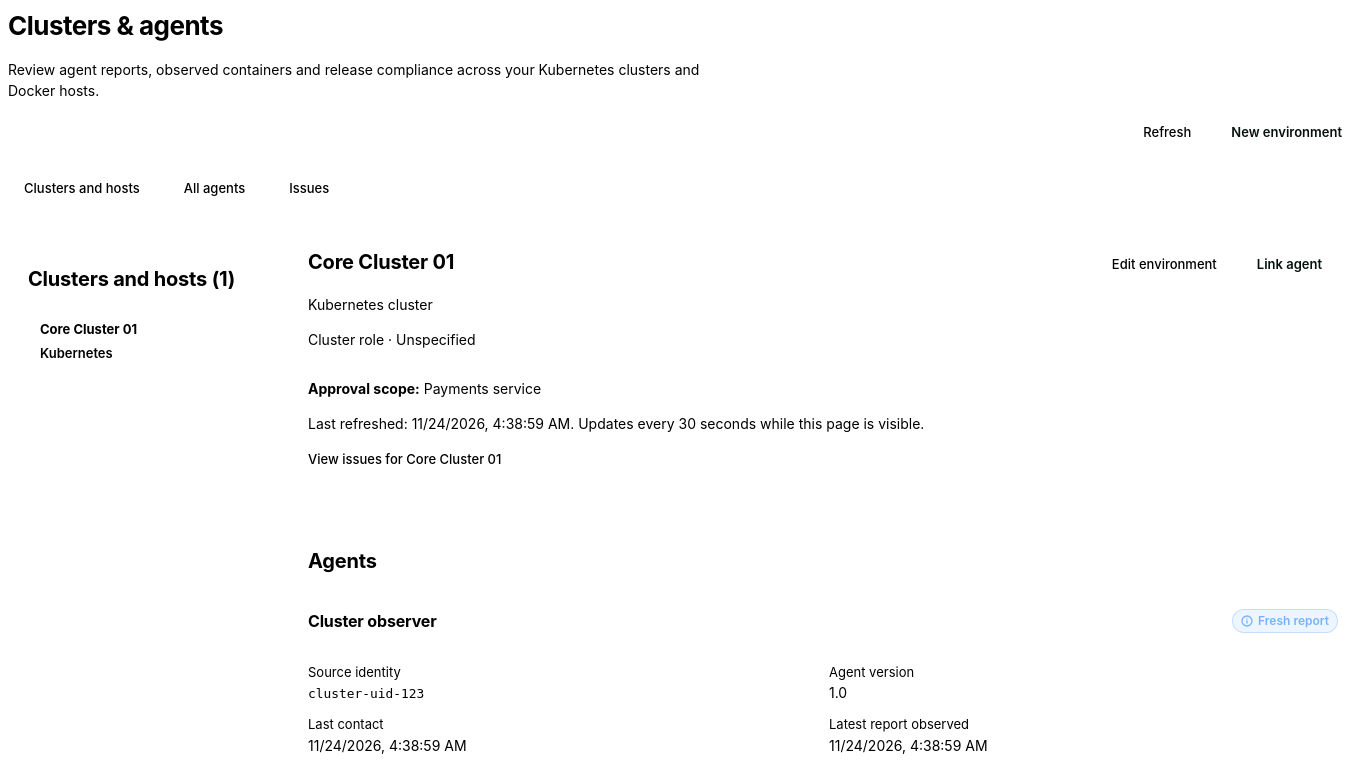
Test: drills from a cluster to its issues and distinguishes expired approvals from missing evidence
The width and height of the screenshot is (1366, 768).
Expected: the button "Link agent" is shown, [1241,247,1338,283]
Click the button "View issues for Core Cluster 01" at (405, 460), box [308,450,501,469]
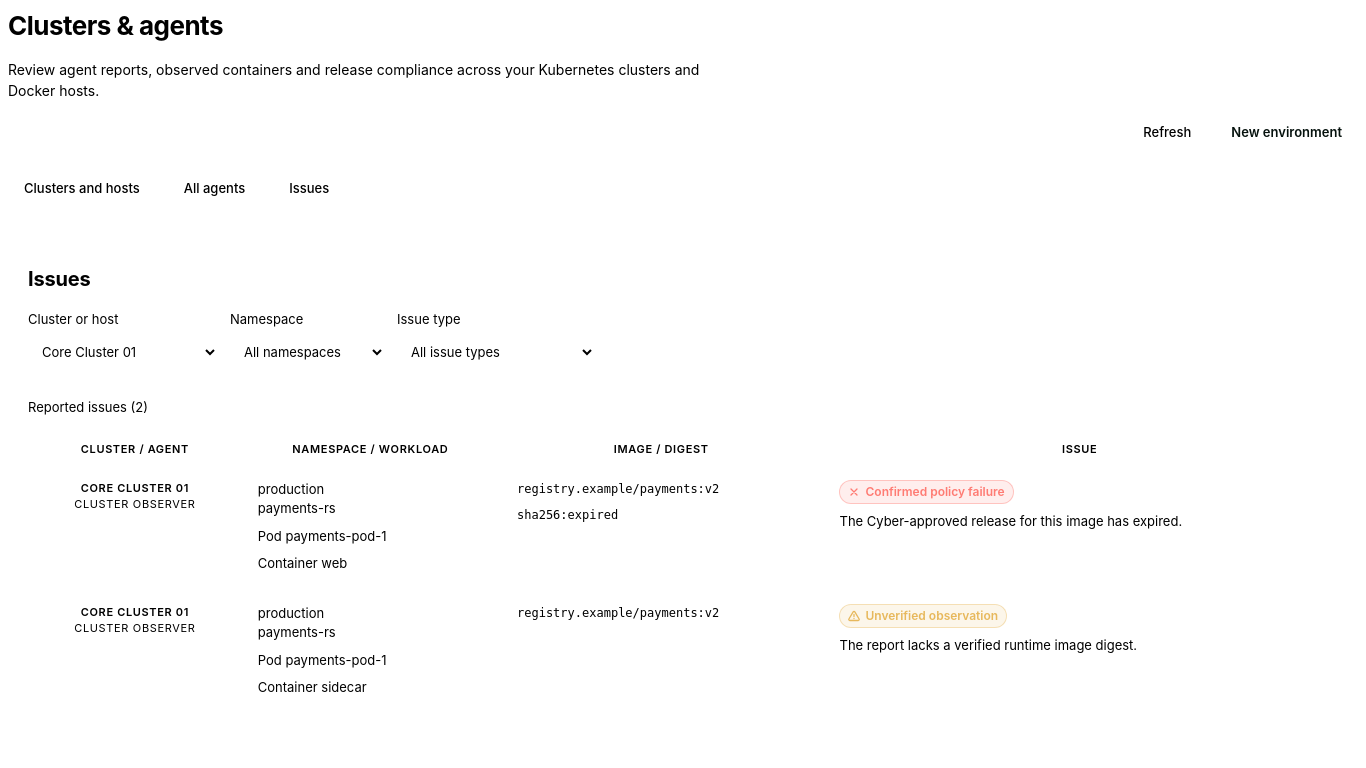
Expected: the dropdown labelled "Cluster or host" shows "Core Cluster 01", [28,334,218,370]
Expected: the 2nd row shows "production", [258,481,324,497]
Expected: the 2nd row shows "payments-rs", [258,500,336,516]
Select "Unverified observation" in the dropdown labelled "Issue type" at (496, 352), box [397,334,595,370]
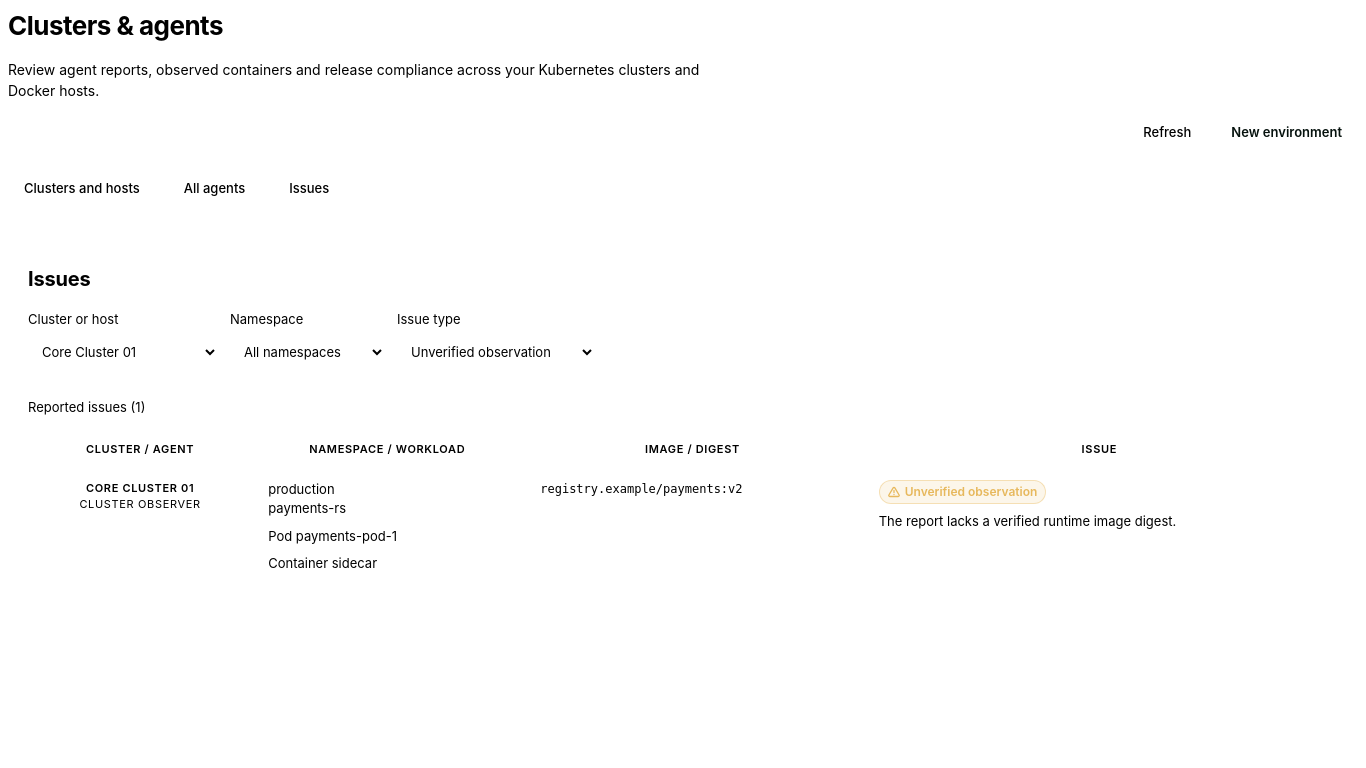
Expected: the text "Container sidecar" is shown, [268,555,377,571]
Expected: the text "approved release for this image has expired" is gone
